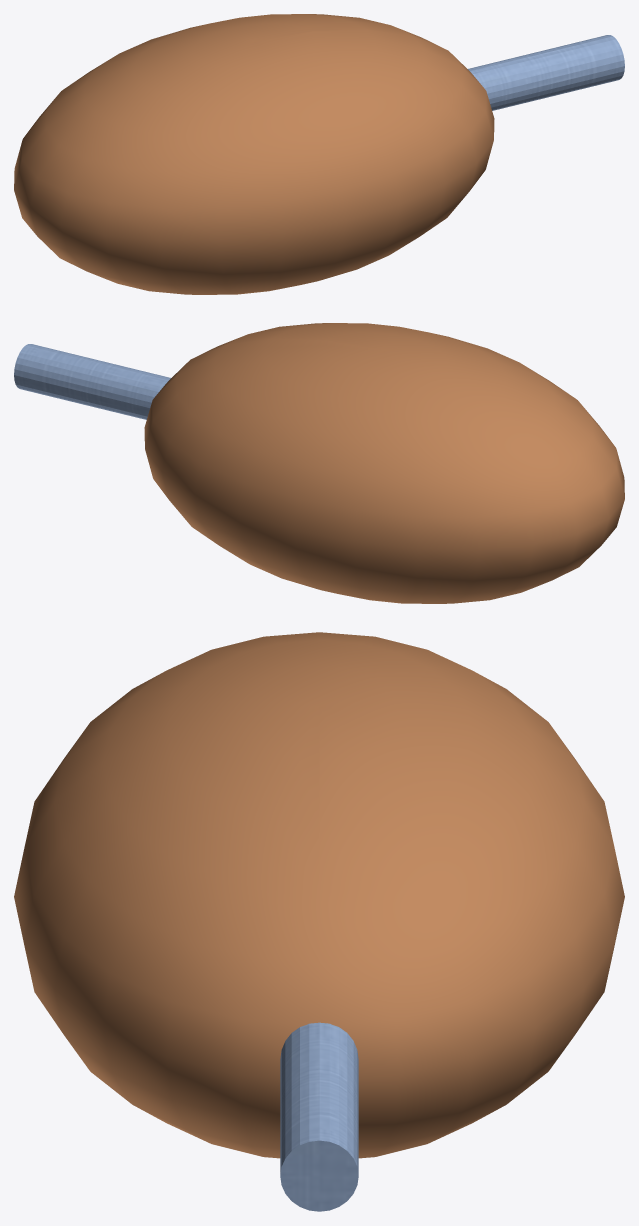
File: lampada.glb
3 views of the same model, one above another, from view 1: azimuth 30°, elevation 25°; view 2: azimuth 150°, elevation 25°; view 3: azimuth 270°, elevation 25° (orthographic). The views are drawn at different scales.
Visible parts, largest first — view 1: Reservatório, Bico e pavio; view 2: Reservatório, Bico e pavio; view 3: Reservatório, Bico e pavio.
Boxes of the visible parts, left/top/right/bottom form: Reservatório: left=14, top=14, right=494, bottom=294; Bico e pavio: left=468, top=35, right=624, bottom=110; Reservatório: left=144, top=323, right=624, bottom=603; Bico e pavio: left=14, top=344, right=170, bottom=419; Reservatório: left=14, top=632, right=624, bottom=1158; Bico e pavio: left=280, top=1022, right=358, bottom=1211.
Size of the model in its own units: 0.65 by 0.24 by 0.35.
2 materials, 1 textured.
